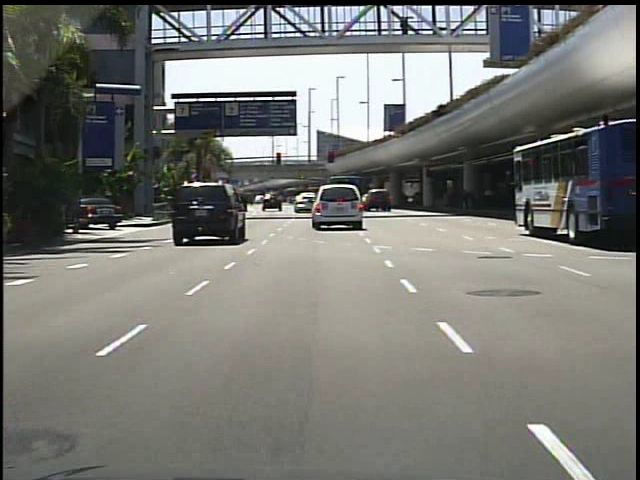person: (393, 16, 411, 42)
